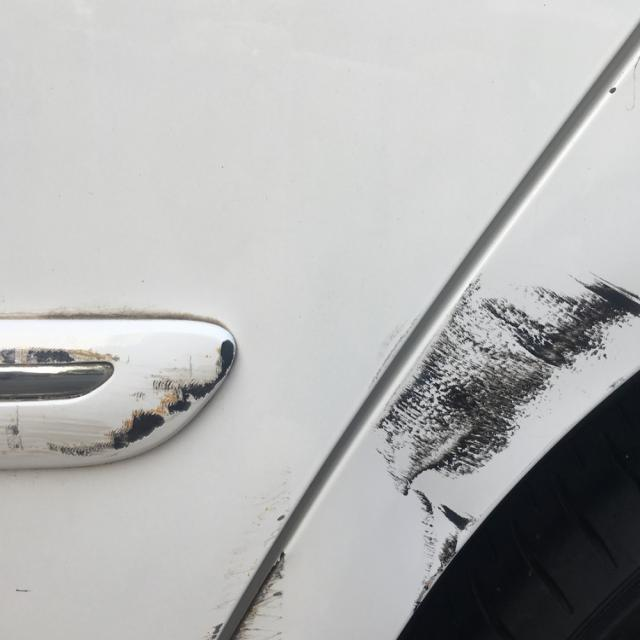scratch: (375, 274, 640, 606), (0, 335, 233, 459), (203, 470, 291, 640), (233, 551, 289, 640), (0, 346, 117, 364)
